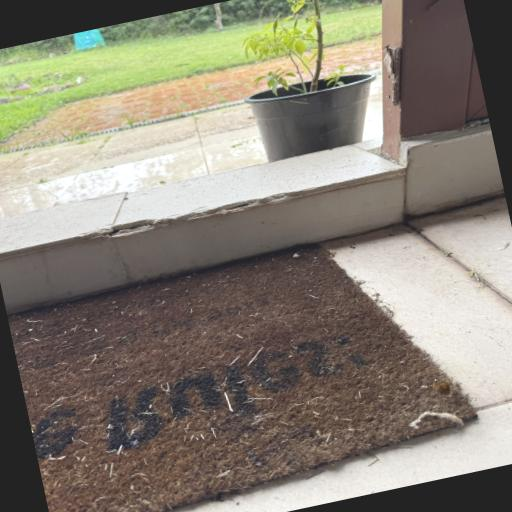step: (0, 144, 407, 312)
